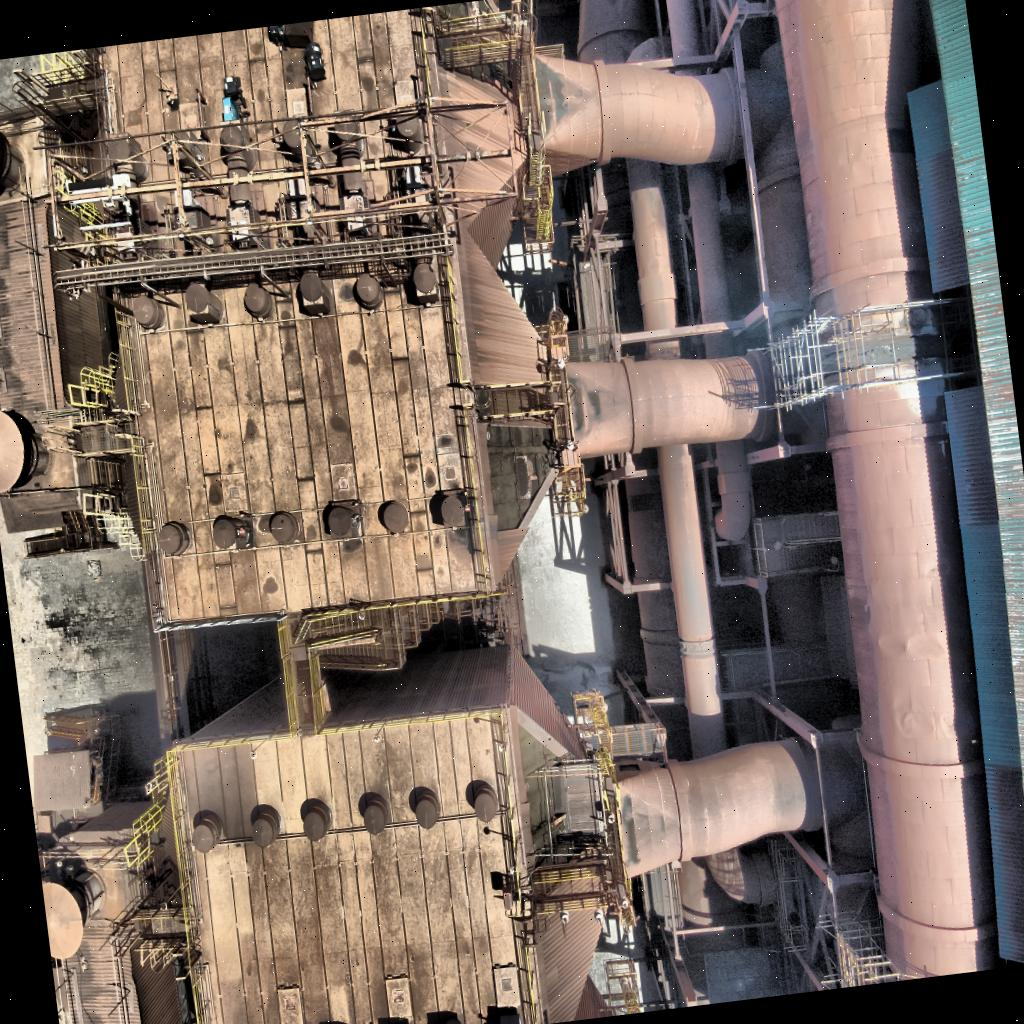Failures: (482, 422, 566, 535), (515, 712, 575, 866), (834, 326, 948, 377)
